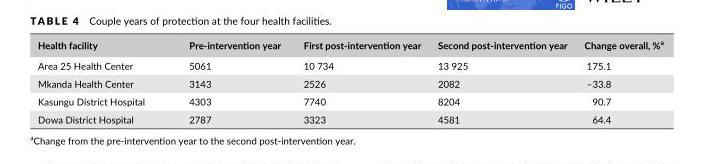table: (36, 37, 662, 124)
table column: (428, 37, 575, 124), (291, 37, 428, 124), (36, 37, 166, 124), (166, 37, 291, 124), (575, 37, 662, 124)
table column header: (36, 37, 662, 54)
table row: (36, 54, 662, 73), (36, 73, 662, 91), (36, 91, 662, 109), (36, 37, 662, 54), (36, 109, 662, 124)
